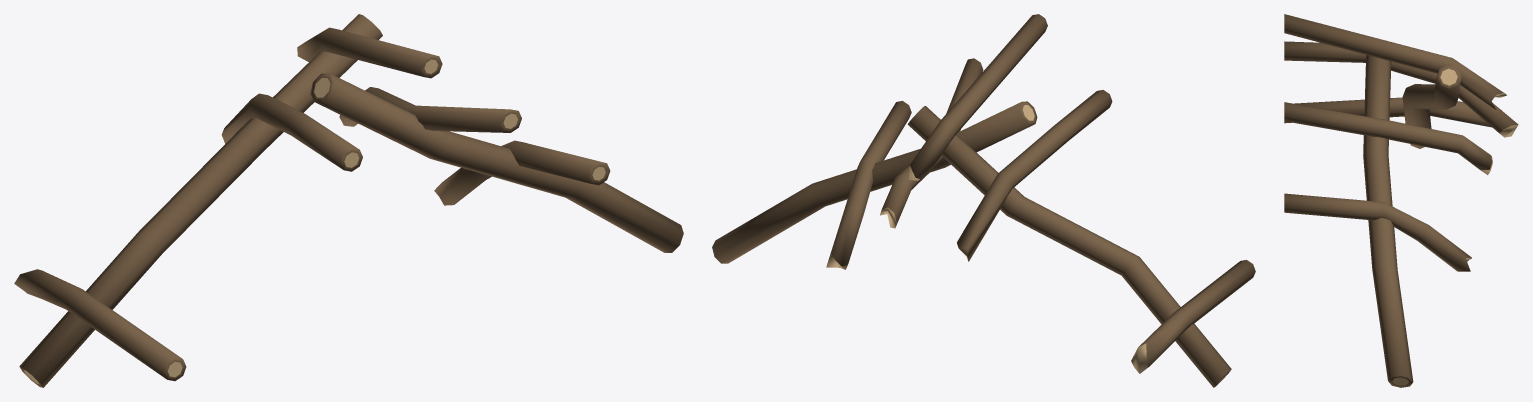
File: rpgpp_av_roof_support_01_6x3x3_b.gltf
3 views of the same model, side by side, from view 1: azimuth 30°, elevation 25°; view 2: azimuth 150°, elevation 25°; view 3: azimuth 270°, elevation 25° (orthographic). The views are drawn at different scales.
Visible parts, largest first — view 1: rpgpp_av_roof_support_01_6x3x3_b; view 2: rpgpp_av_roof_support_01_6x3x3_b; view 3: rpgpp_av_roof_support_01_6x3x3_b.
Part boxes in pixels (x1,y1,x2,y2): rpgpp_av_roof_support_01_6x3x3_b: (14, 14, 683, 387); rpgpp_av_roof_support_01_6x3x3_b: (712, 14, 1255, 387); rpgpp_av_roof_support_01_6x3x3_b: (1284, 14, 1518, 387).
Size of the model in its own units: 0.0731 by 0.0355 by 0.0294.
1 material, 1 textured.
